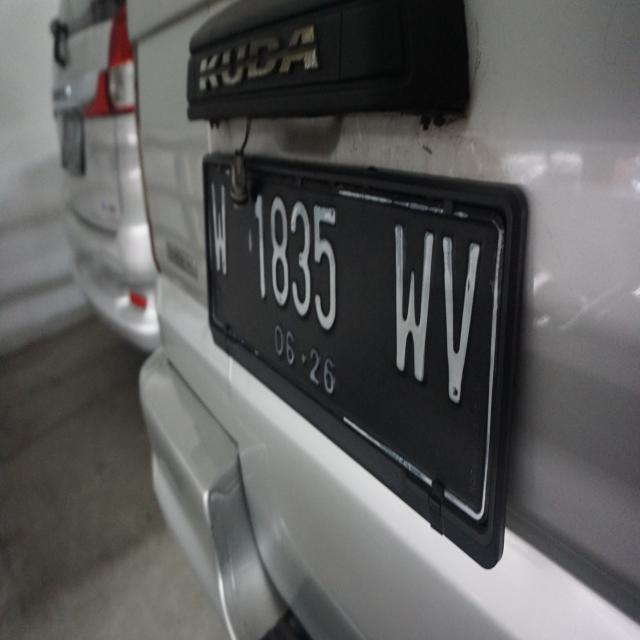1: (248, 187, 272, 306)
3: (283, 195, 310, 322)
5: (308, 192, 341, 334)
8: (266, 188, 292, 306)
V: (429, 216, 486, 423)
W: (376, 211, 437, 391), (204, 172, 234, 282)
